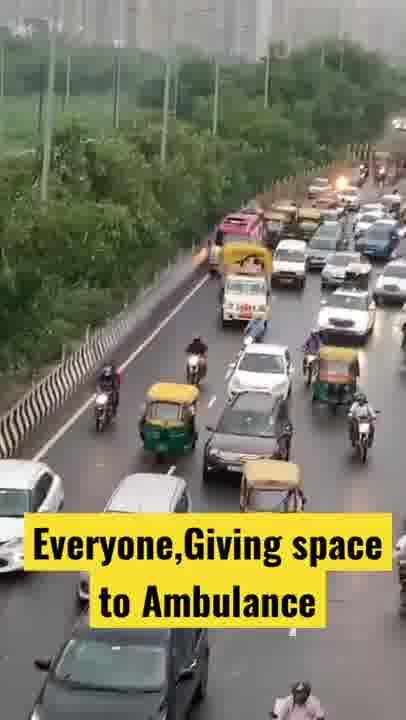AMBULANCE: (207, 208, 265, 252)
